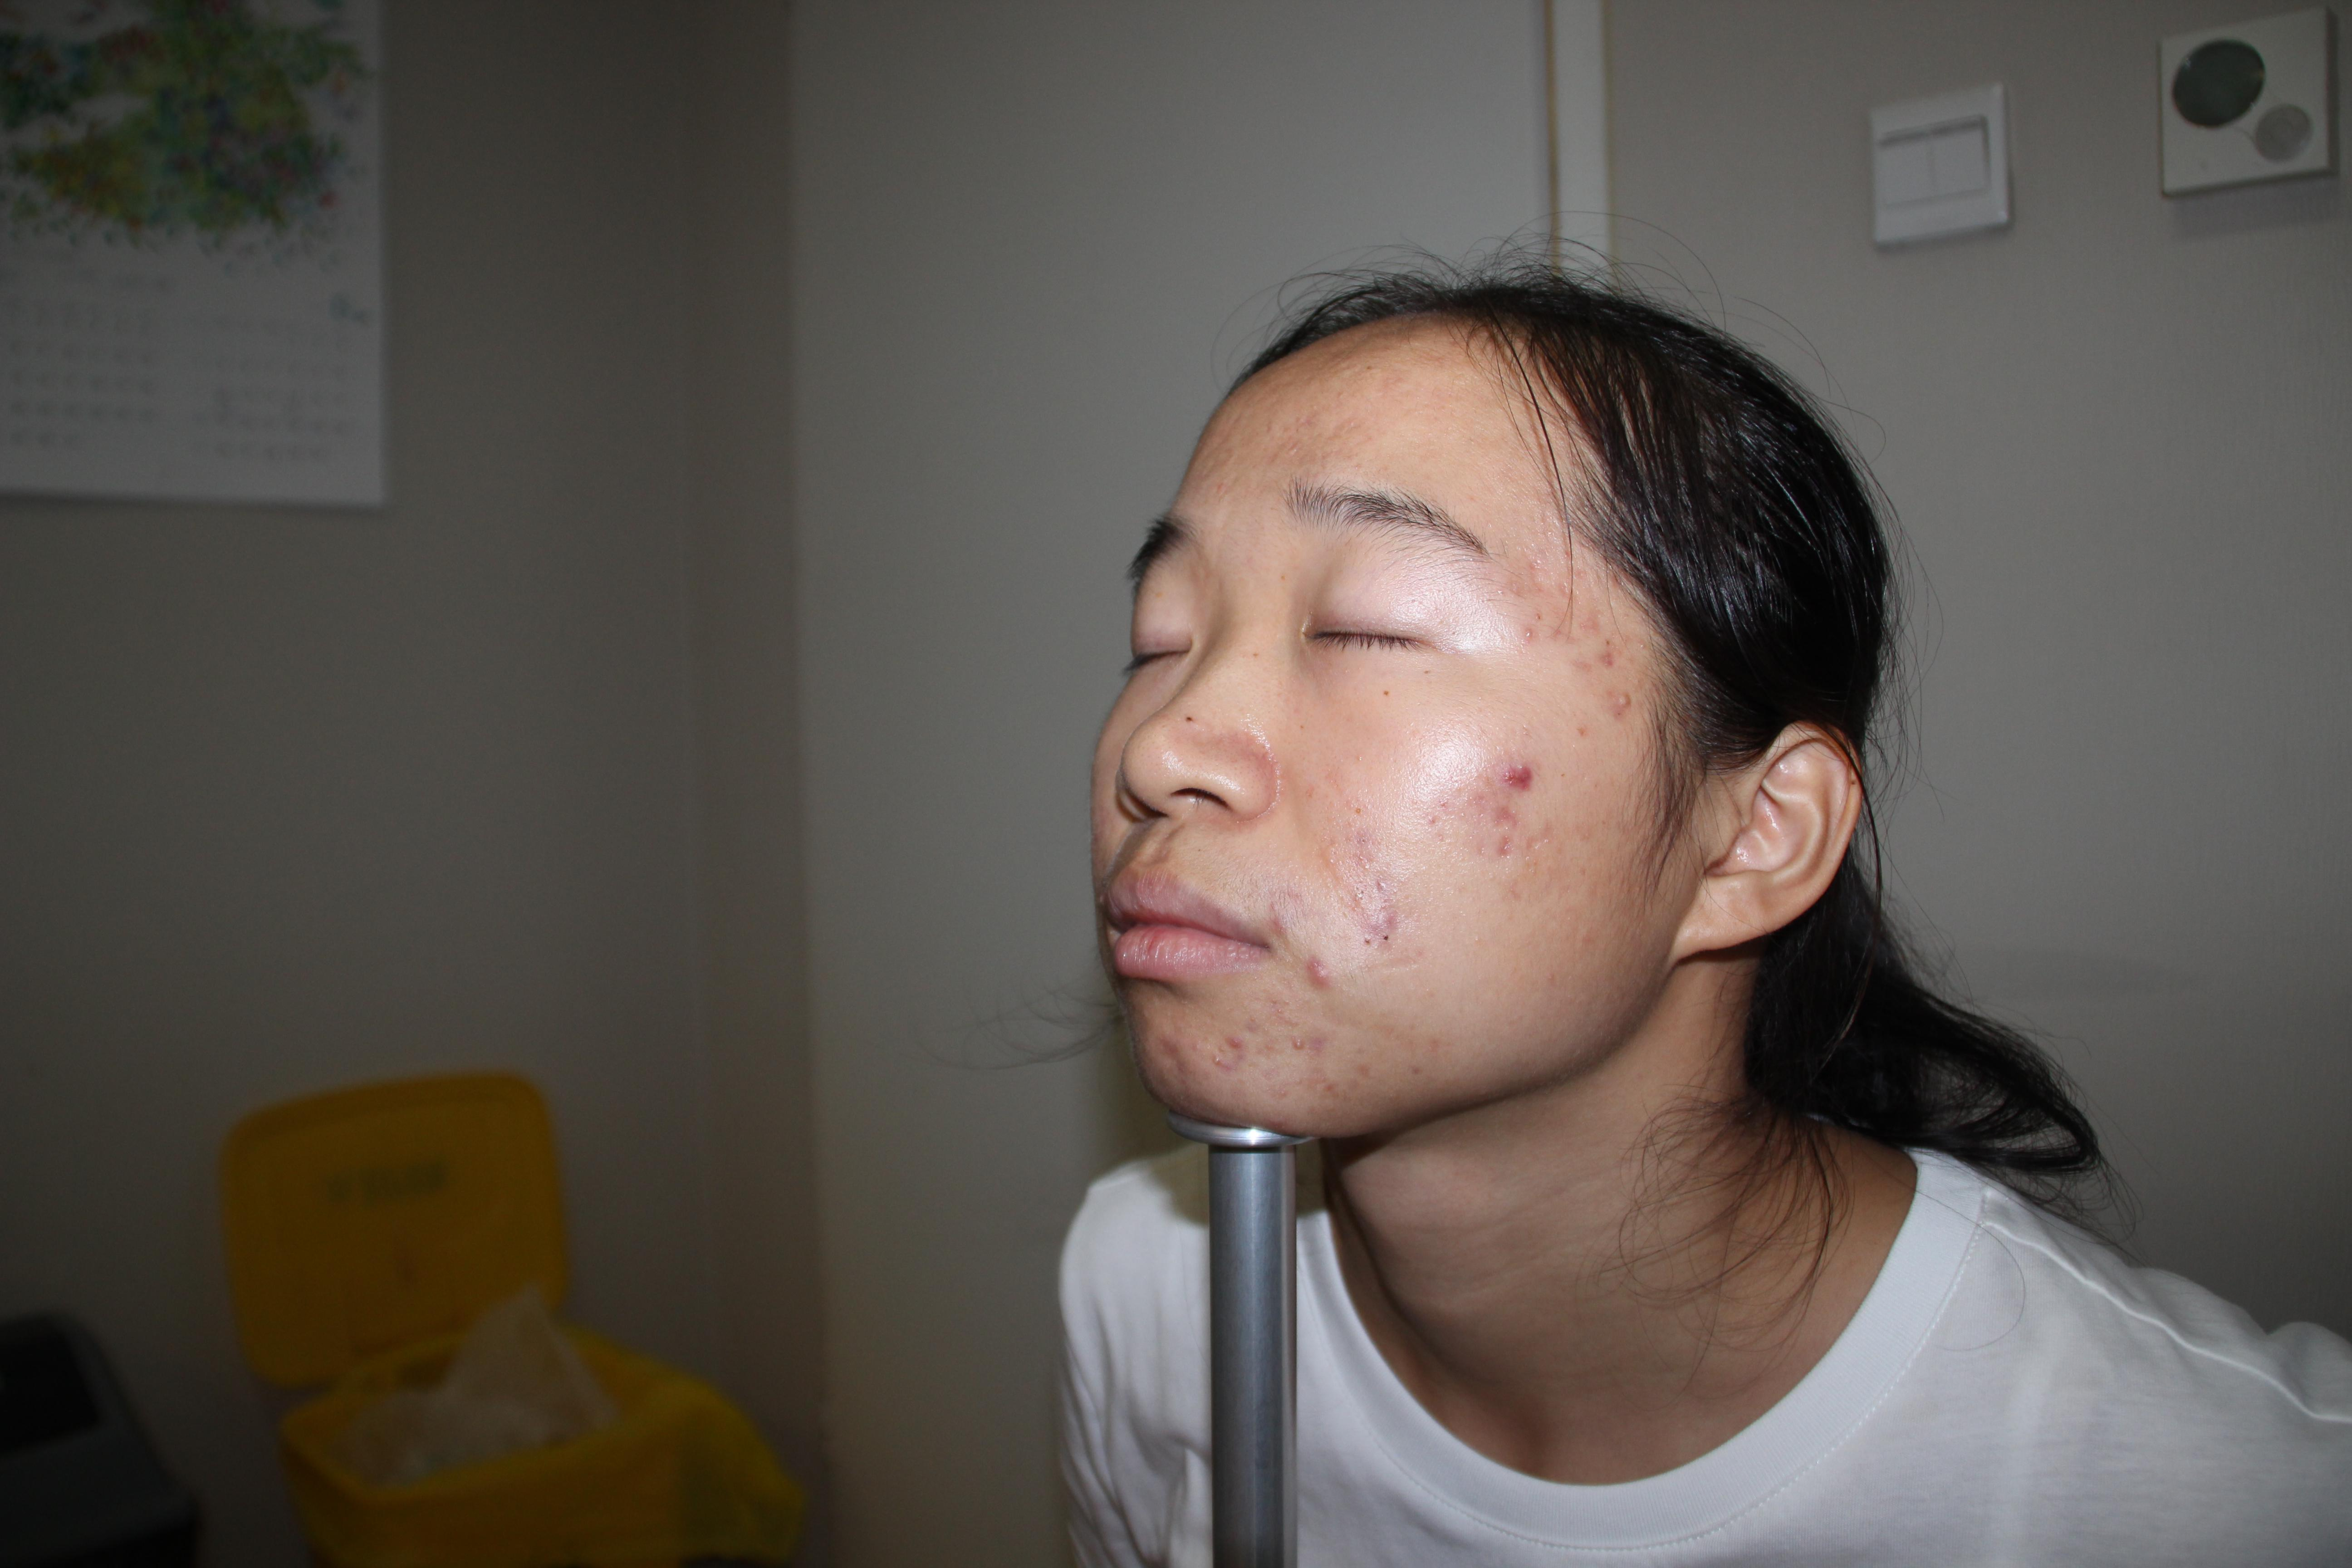fore: (1353, 889, 1432, 961), (1197, 1027, 1260, 1083), (1472, 789, 1538, 833), (1291, 1020, 1344, 1074), (1494, 745, 1547, 796), (1144, 1027, 1193, 1080), (1598, 677, 1650, 724), (1519, 602, 1566, 646), (1487, 837, 1528, 877)
